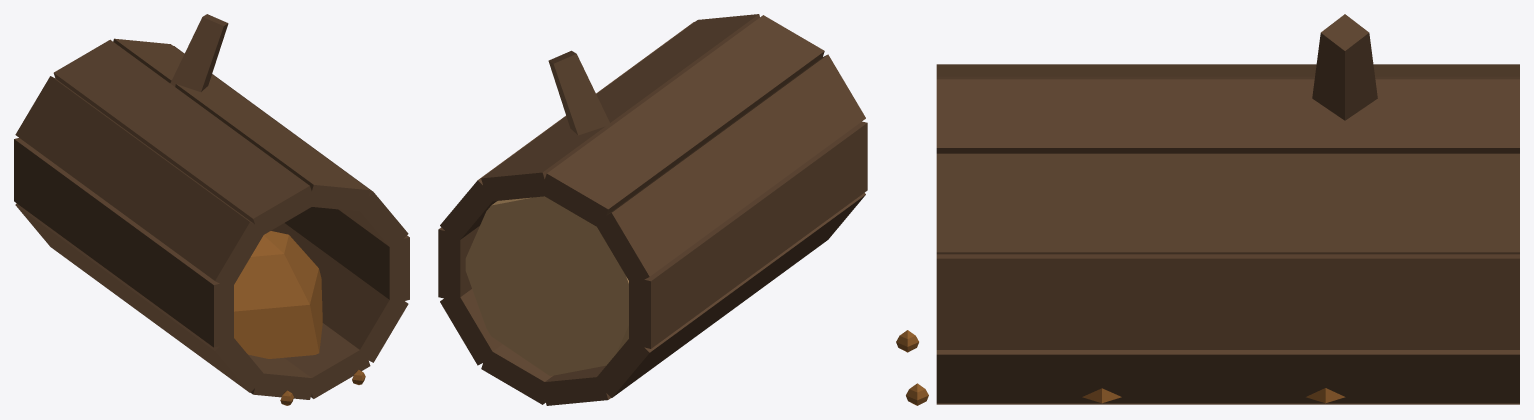
The model's file is Prop_Hoard_Cache_Full_LOD1.glb.
The picture shows the model from 3 angles, left to right: view 1: azimuth 30°, elevation 25°; view 2: azimuth 150°, elevation 25°; view 3: azimuth 270°, elevation 25°; orthographic projection. The views are drawn at different scales.
Visible parts, largest first — view 1: Prop_Hoard_Cache_Full, Prop_Hoard_Cache_Full_Fill; view 2: Prop_Hoard_Cache_Full; view 3: Prop_Hoard_Cache_Full, Prop_Hoard_Cache_Full_Fill.
Boxes of the visible parts, <box> form: Prop_Hoard_Cache_Full: <box>14,14,409,399</box>; Prop_Hoard_Cache_Full_Fill: <box>234,231,365,405</box>; Prop_Hoard_Cache_Full: <box>438,14,867,405</box>; Prop_Hoard_Cache_Full: <box>936,14,1519,404</box>; Prop_Hoard_Cache_Full_Fill: <box>896,330,1345,405</box>.
Bounding box in the file's own units: 0.34 × 0.4526 × 0.642.
